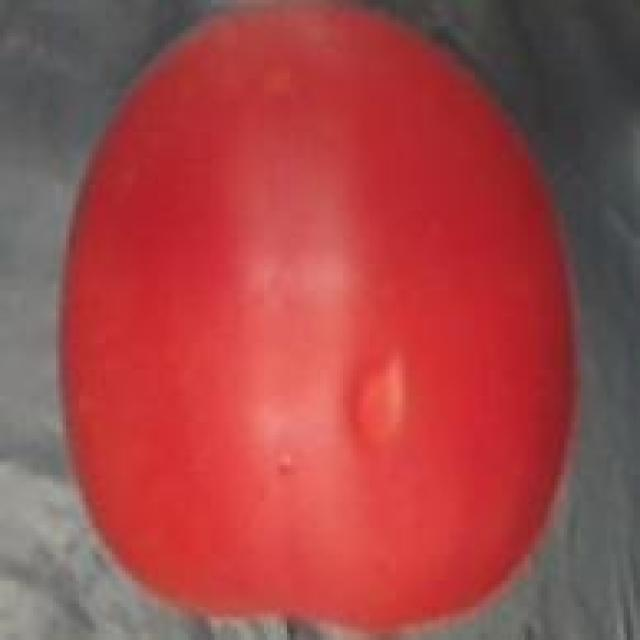ripe tomato: (49, 0, 590, 640)
